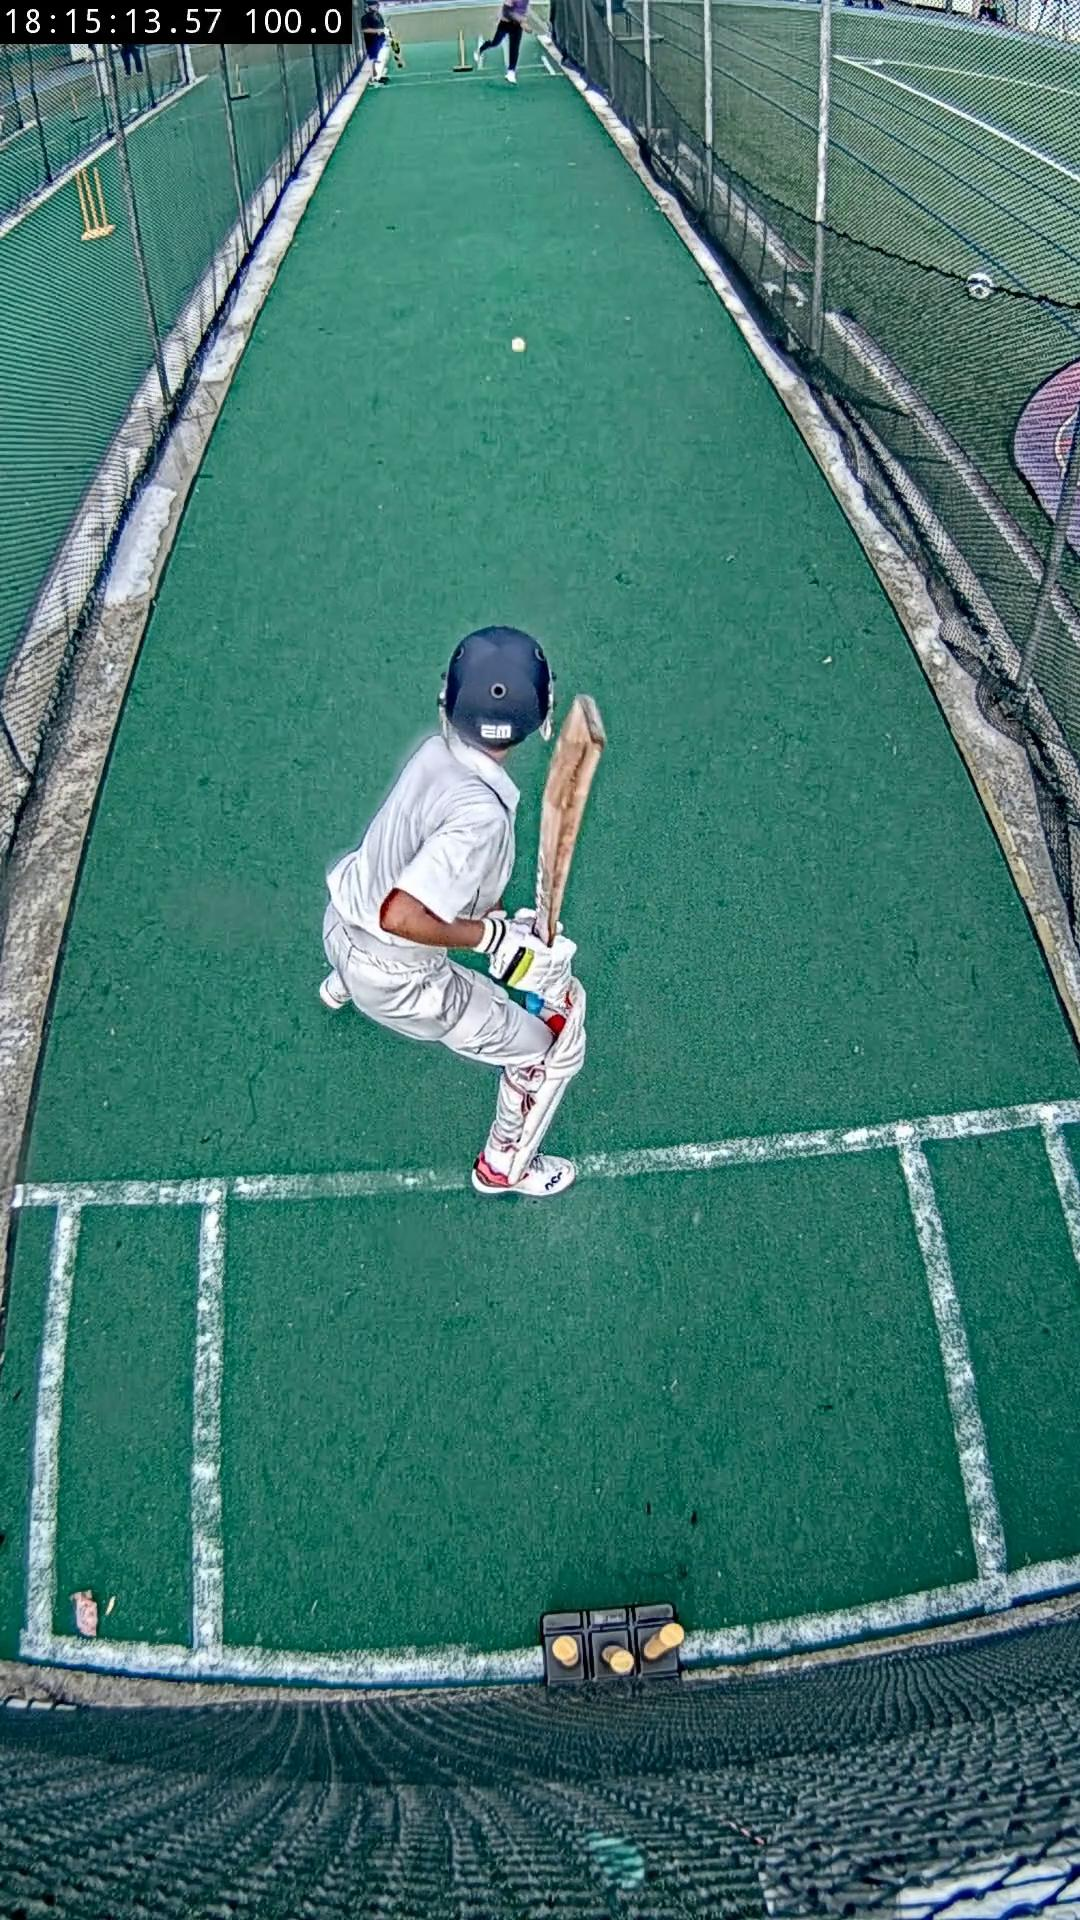ball: (510, 338, 525, 352)
bat: (537, 694, 608, 938)
gloves: (476, 911, 578, 997)
helmet: (443, 626, 551, 746)
pads: (510, 978, 585, 1179)
stumps: (541, 1605, 686, 1684)
